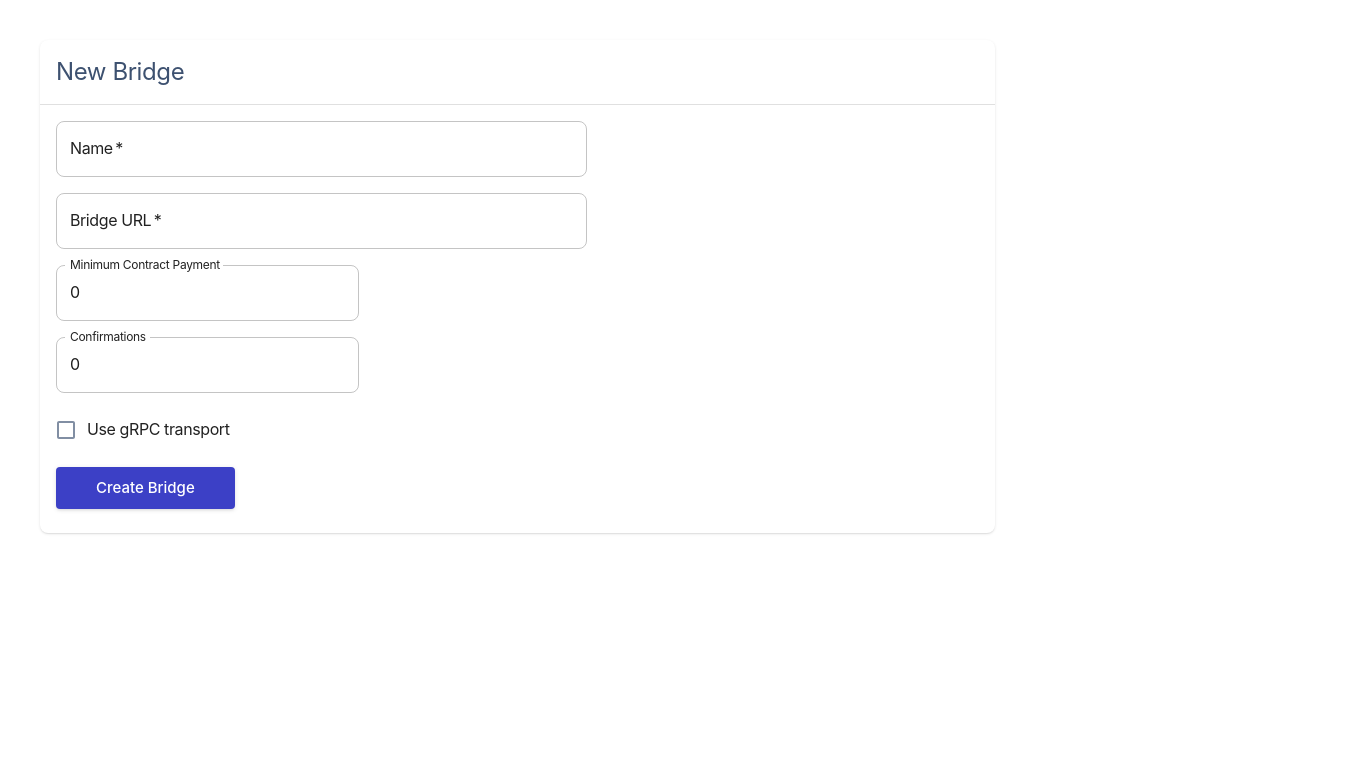
Scenario: NewBridgeScreen › renders mutation GQL errors
Type "bridge1" into the field labelled "Name *" at {"x": 322, "y": 149}, box [56,121,588,177]
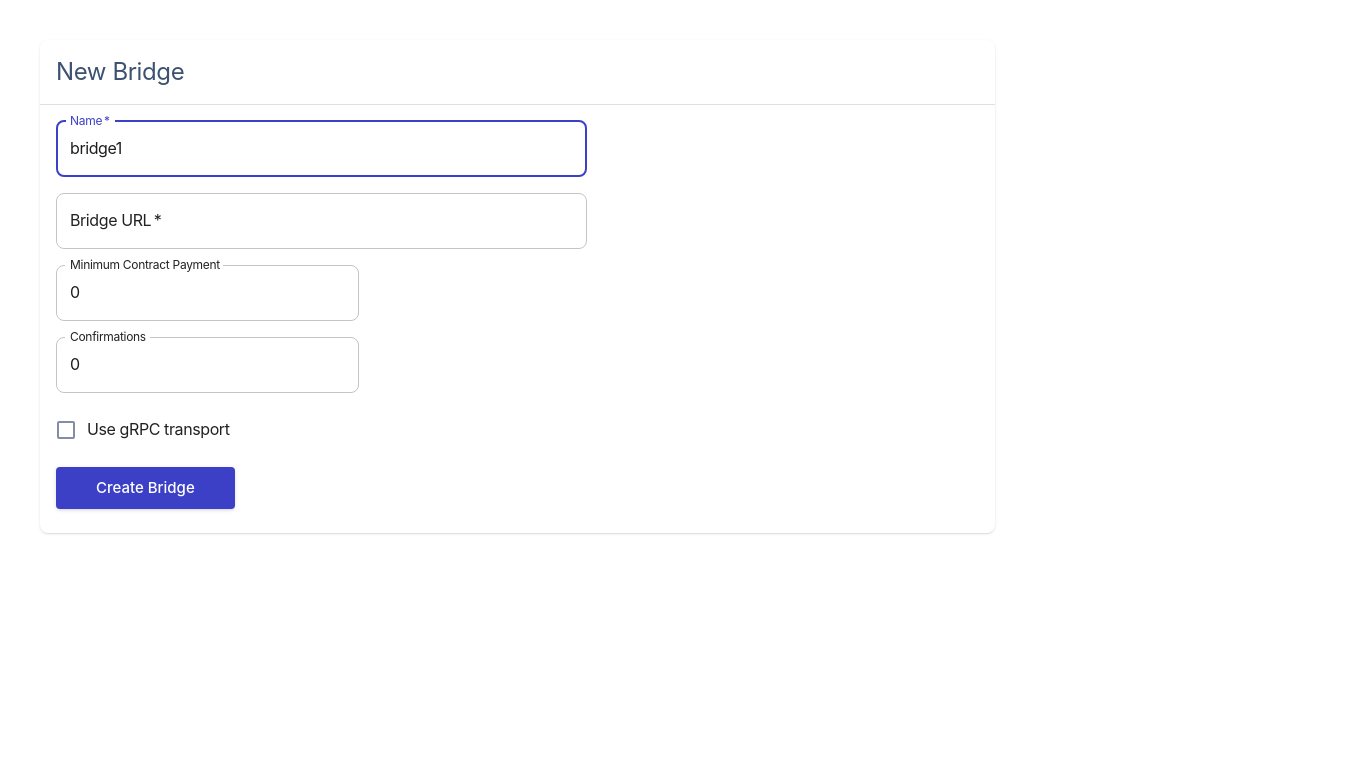
Type "https://www.test.com" into the field labelled "Bridge URL *" at {"x": 322, "y": 221}, box [56,193,588,249]
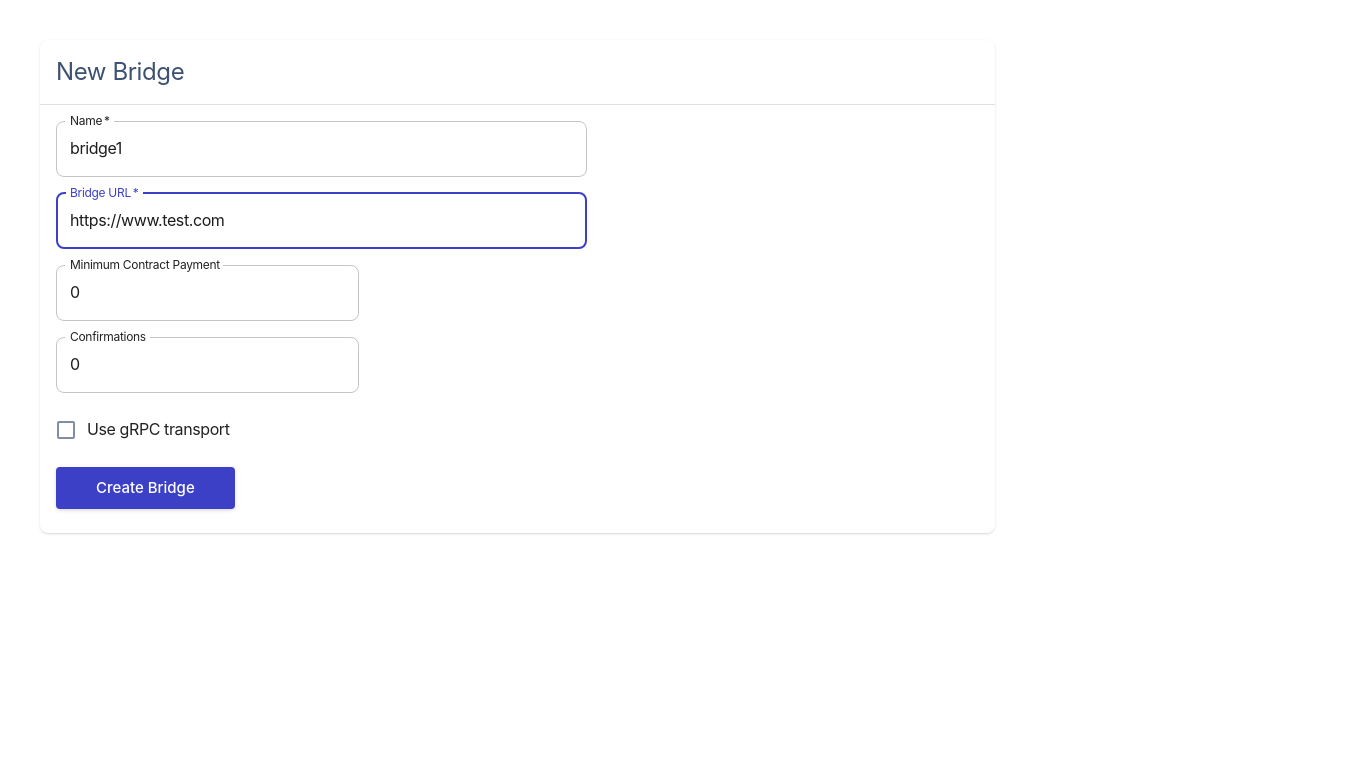
Click the button "Create Bridge" at {"x": 145, "y": 488}, box [56,467,235,509]
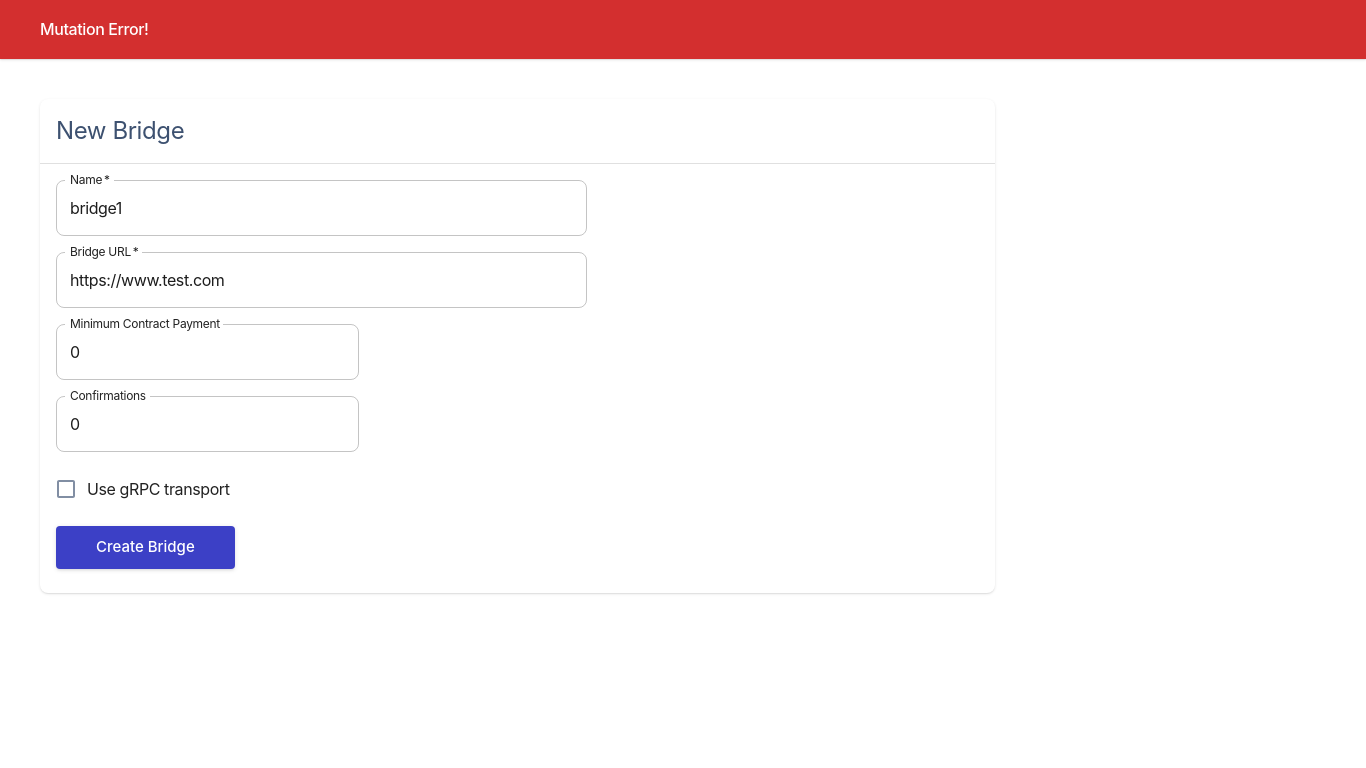
Check: the text "Mutation Error!" is shown, box [40,19,148,39]
